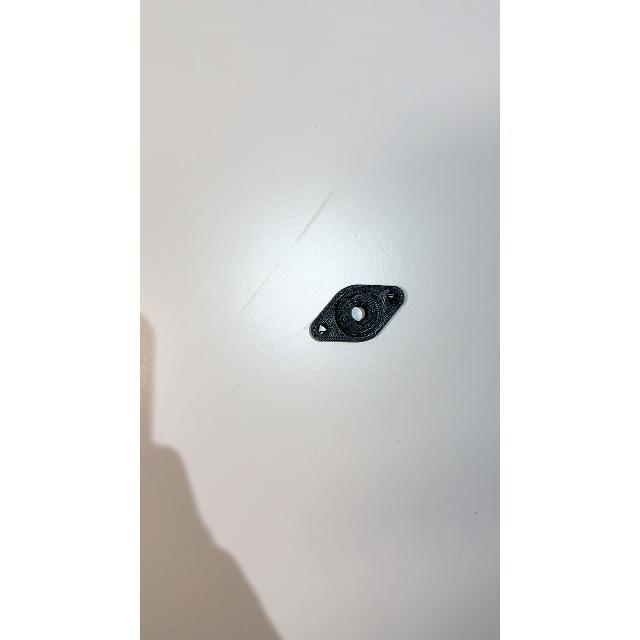Pieza2: (292, 271, 420, 355)
